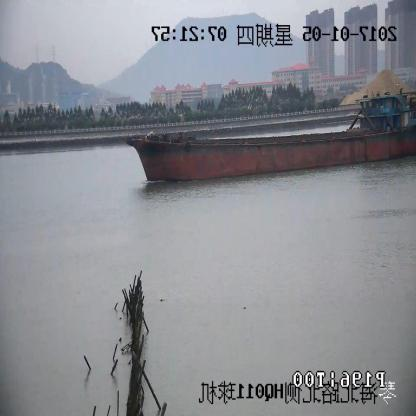Bulk Carrier: (127, 91, 415, 182)
